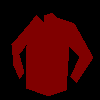abbigliamento_uomo: (11, 12, 93, 96)
